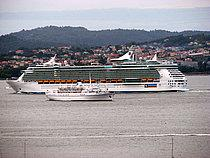Ship: (5, 55, 194, 95)
